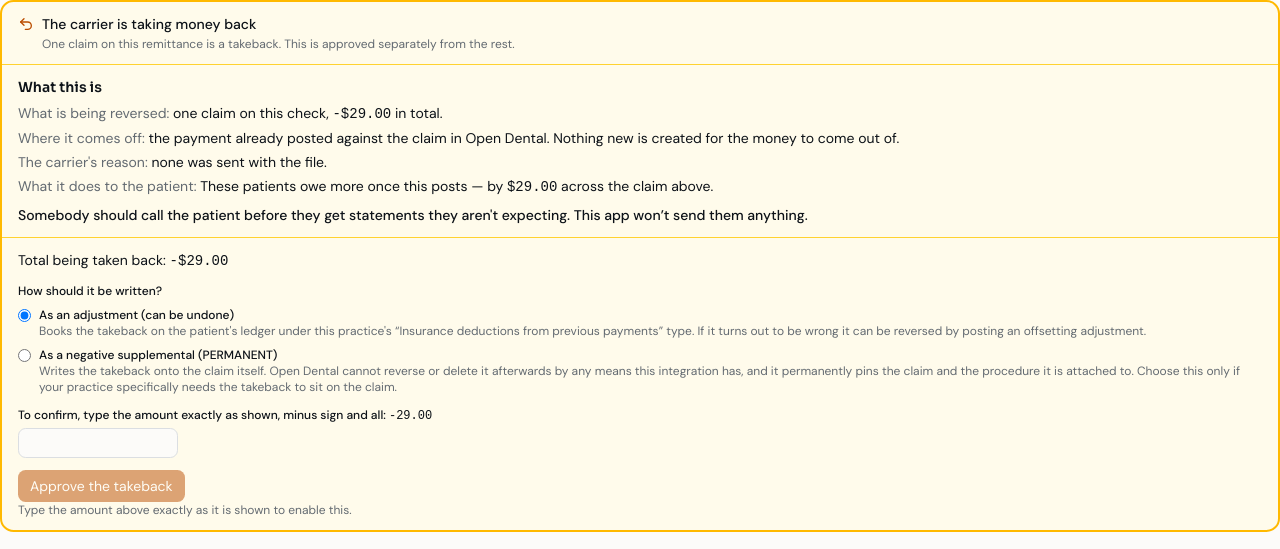
Test: W-4 · the permanent path cannot become selected by a single click › an already-approved takeback routes to the Posting screen and retires the button
Type "-29.00" into the field with test id "recoupment-confirm-input".
click(98, 443); type("-29.00")  # box [18,428,178,458]
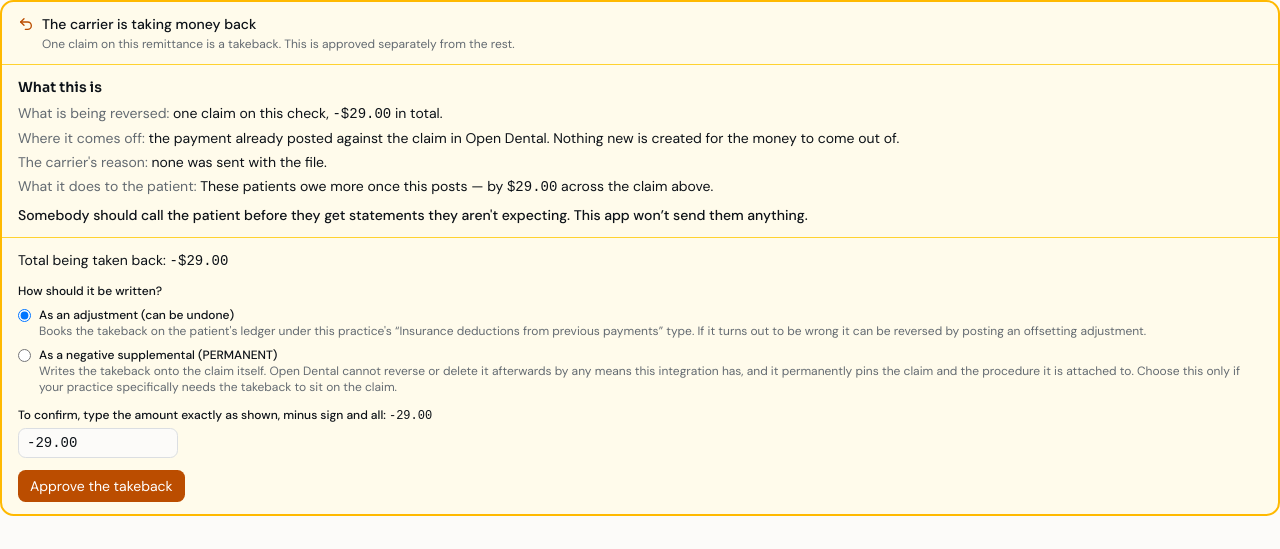
Click the button with test id "recoupment-approve-button".
click(101, 486)  # box [18,470,185,502]
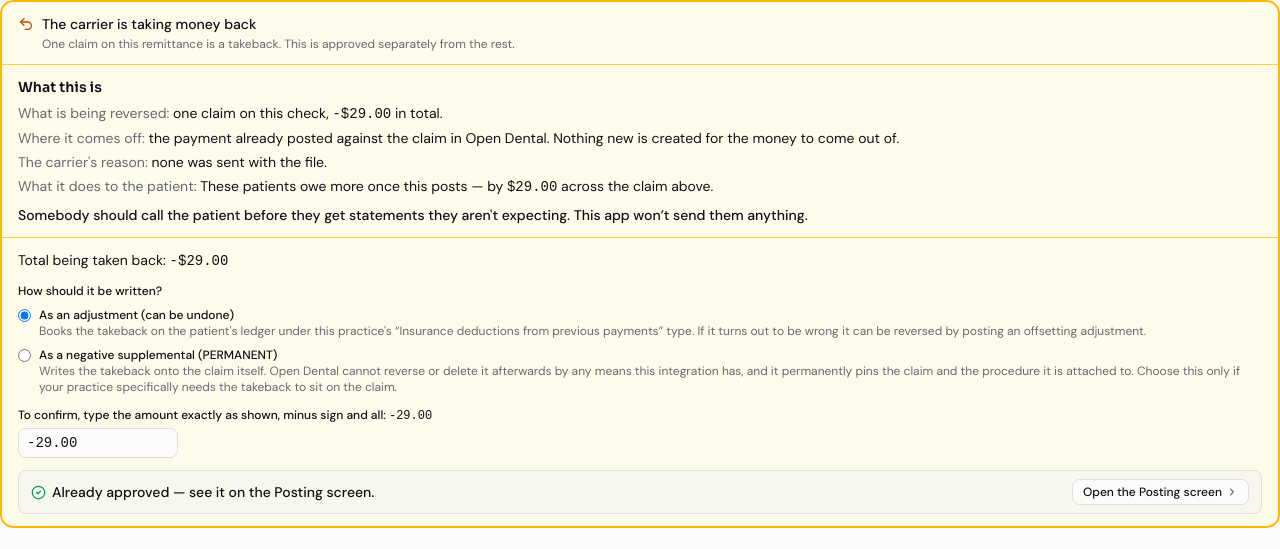
Result: the element with test id "recoupment-already-approved" shows "Already approved — see it on the Posting screen" at [52,483,374,501]
Result: the button with test id "recoupment-approve-button" is gone
